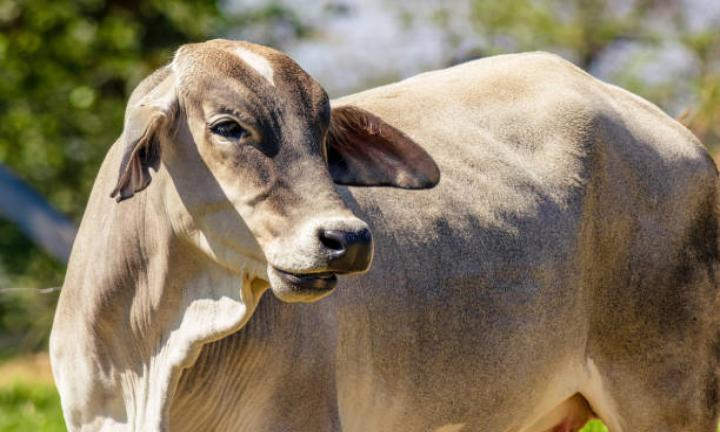Brahman: (51, 39, 719, 431)
